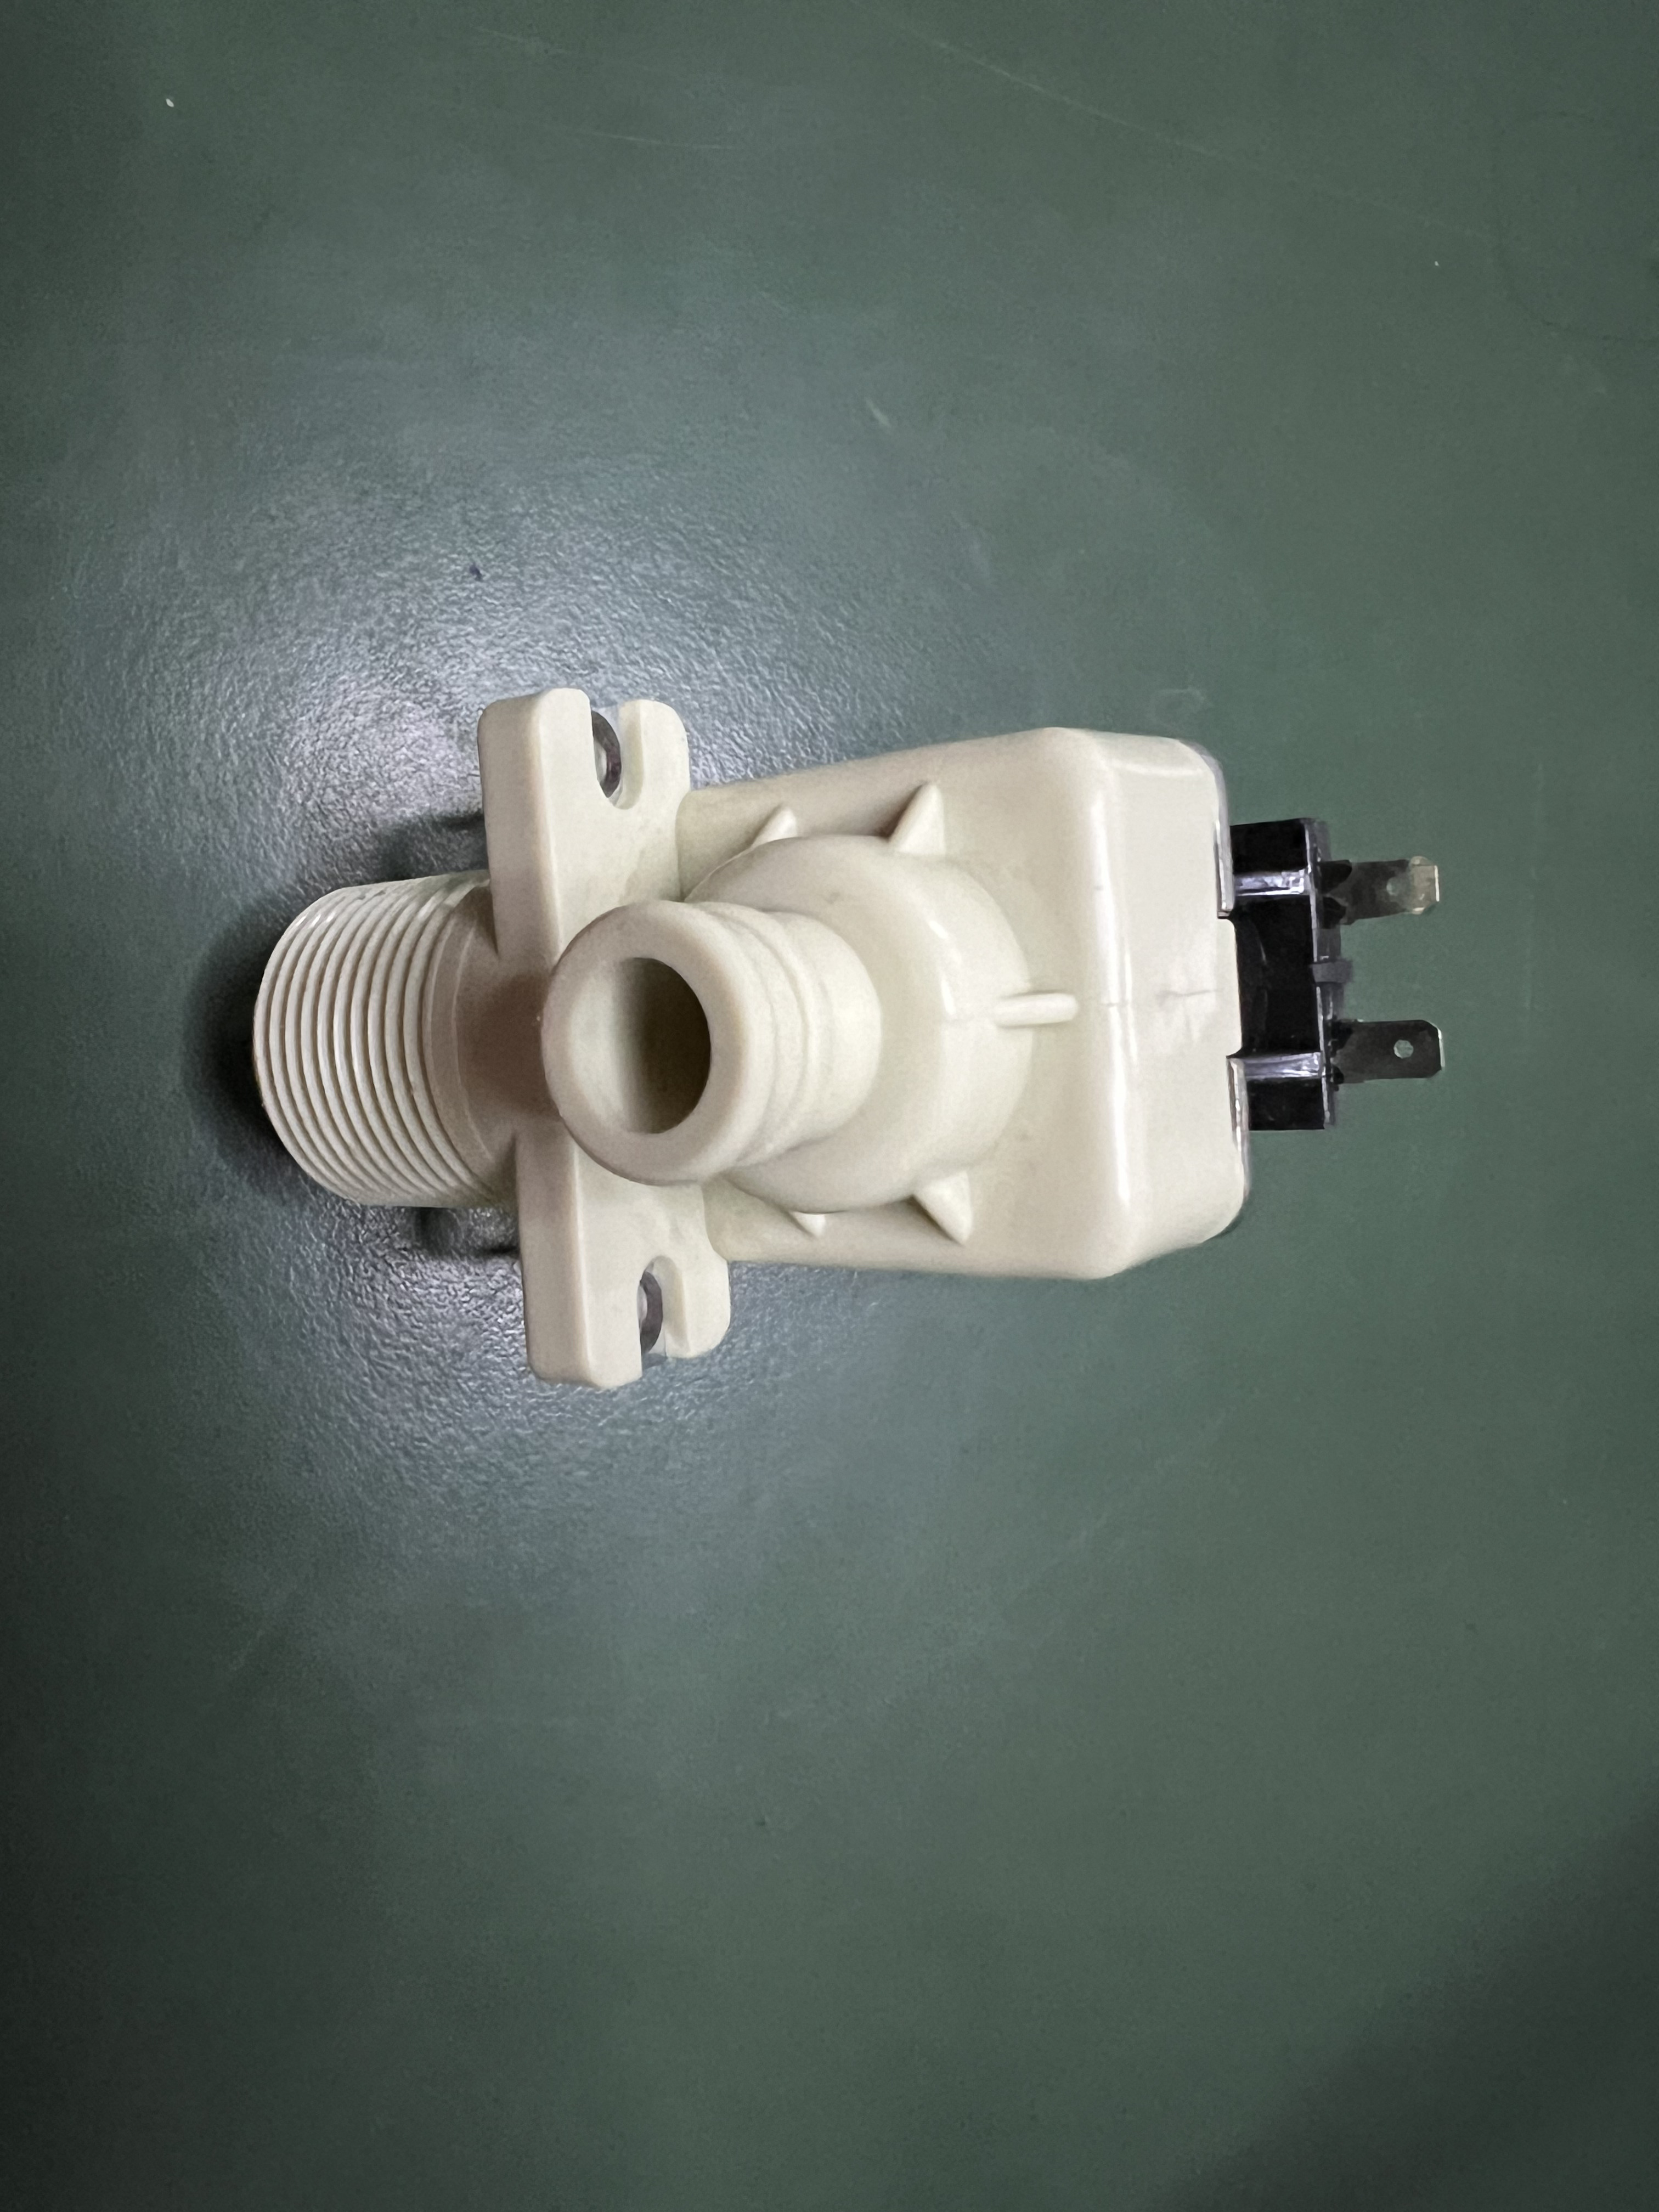godrej_inlet_valves: (258, 681, 1488, 1409)
